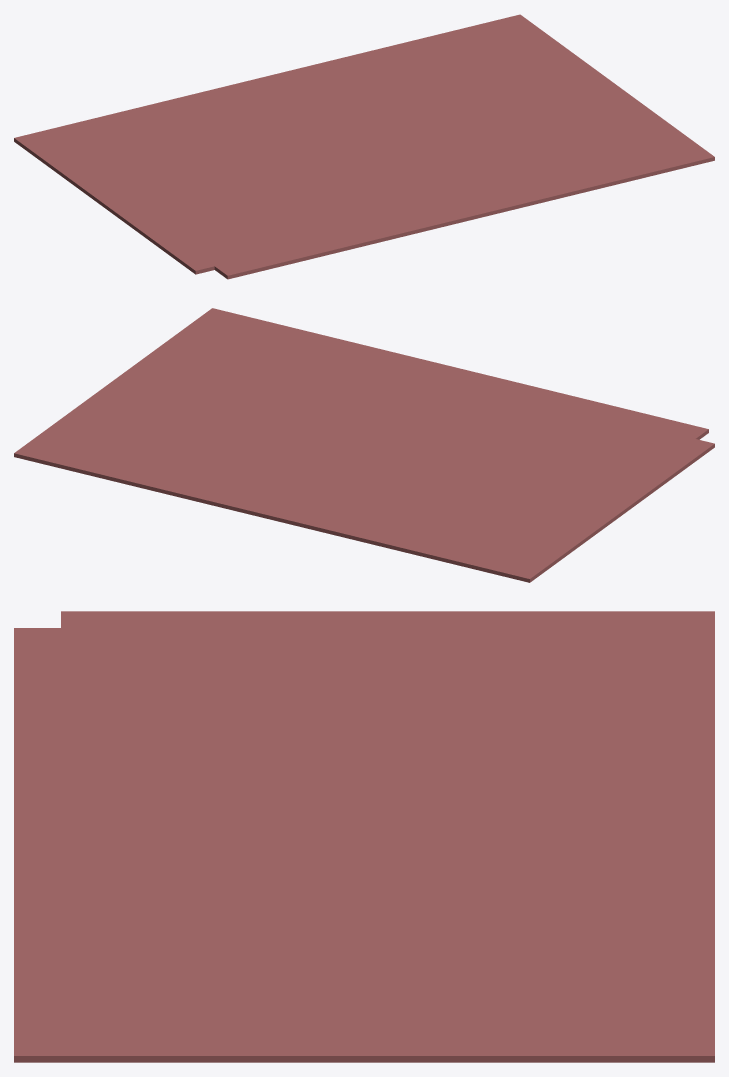
File: wood1.fbx
3 renders of one model, top to bottom at view 1: azimuth 30°, elevation 25°; view 2: azimuth 150°, elevation 25°; view 3: azimuth 270°, elevation 25°, orthographic. The views are drawn at different scales.
Parts seen in each view (by area): view 1: Component_15_1; view 2: Component_15_1; view 3: Component_15_1.
Part boxes in pixels (bbox=[...]): Component_15_1: bbox=[14, 14, 714, 279]; Component_15_1: bbox=[14, 308, 714, 582]; Component_15_1: bbox=[14, 611, 714, 1062].
Size of the model in its own units: 386 by 2.7 by 257.
